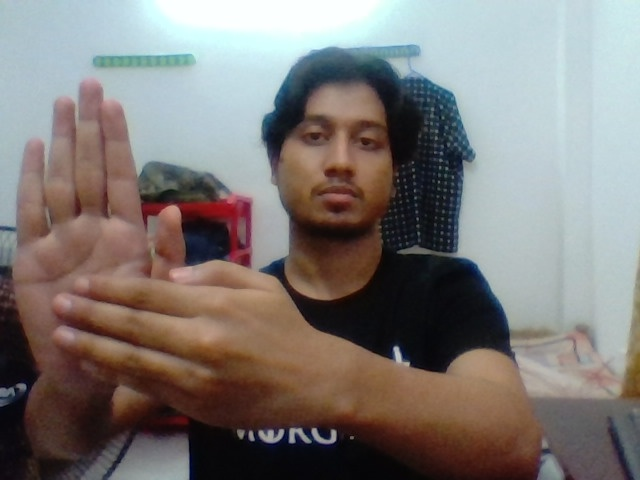H: (6, 83, 281, 419)
